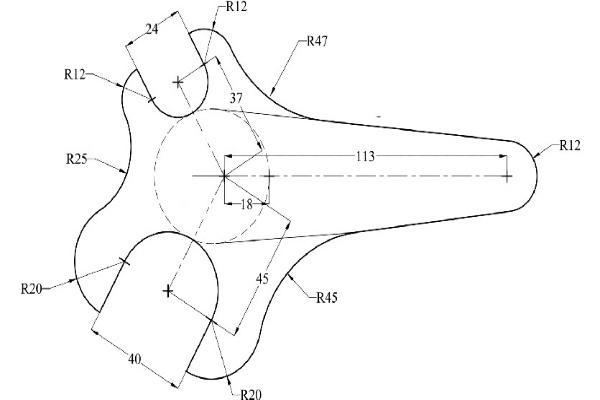dimensions: (12, 276, 49, 302), (308, 287, 343, 311), (555, 129, 583, 158), (56, 63, 89, 87), (305, 29, 335, 53), (354, 146, 382, 168), (221, 0, 254, 18), (63, 147, 91, 168), (142, 20, 164, 42), (236, 386, 269, 400), (225, 87, 247, 106), (238, 195, 258, 214), (124, 352, 148, 367), (252, 271, 273, 287)
